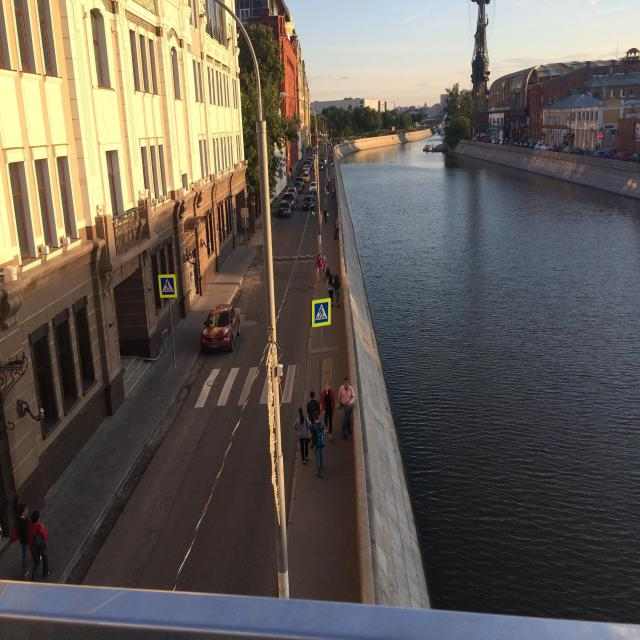Good: (207, 378, 221, 389)
